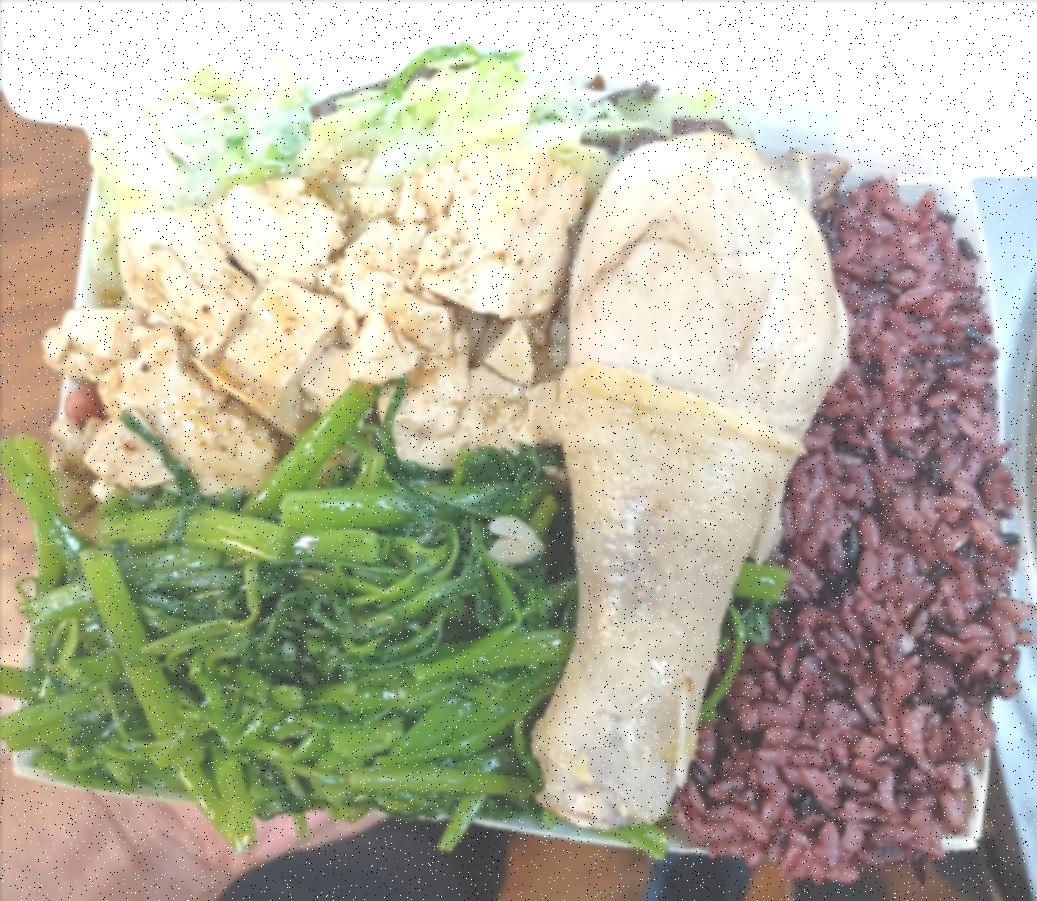plate: (1, 112, 1026, 862)
purple rice: (693, 181, 988, 830)
side dish: (24, 444, 574, 791), (67, 147, 590, 480), (71, 60, 652, 278)
small herbal chicken leg: (503, 115, 868, 818)
